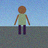person: (14, 6, 29, 34)
